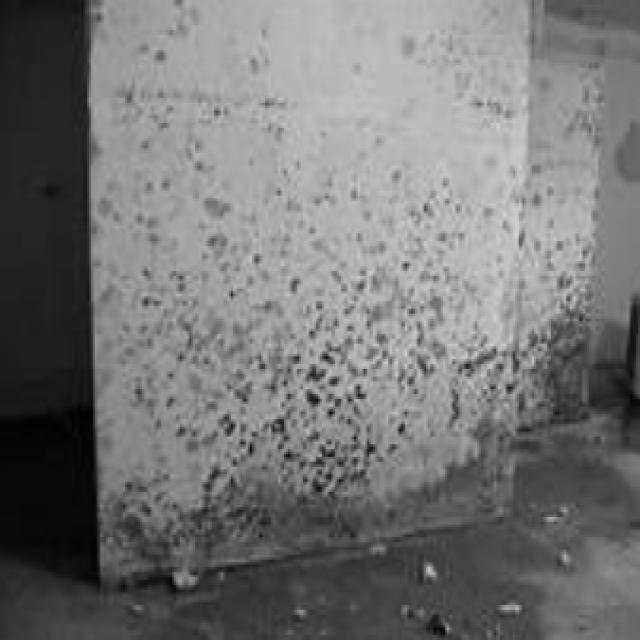stain marks: (86, 0, 510, 585), (513, 2, 640, 424)
